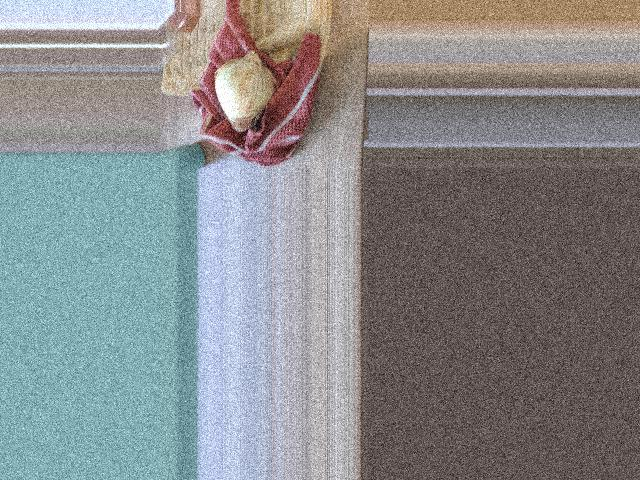onion: (210, 56, 277, 126)
